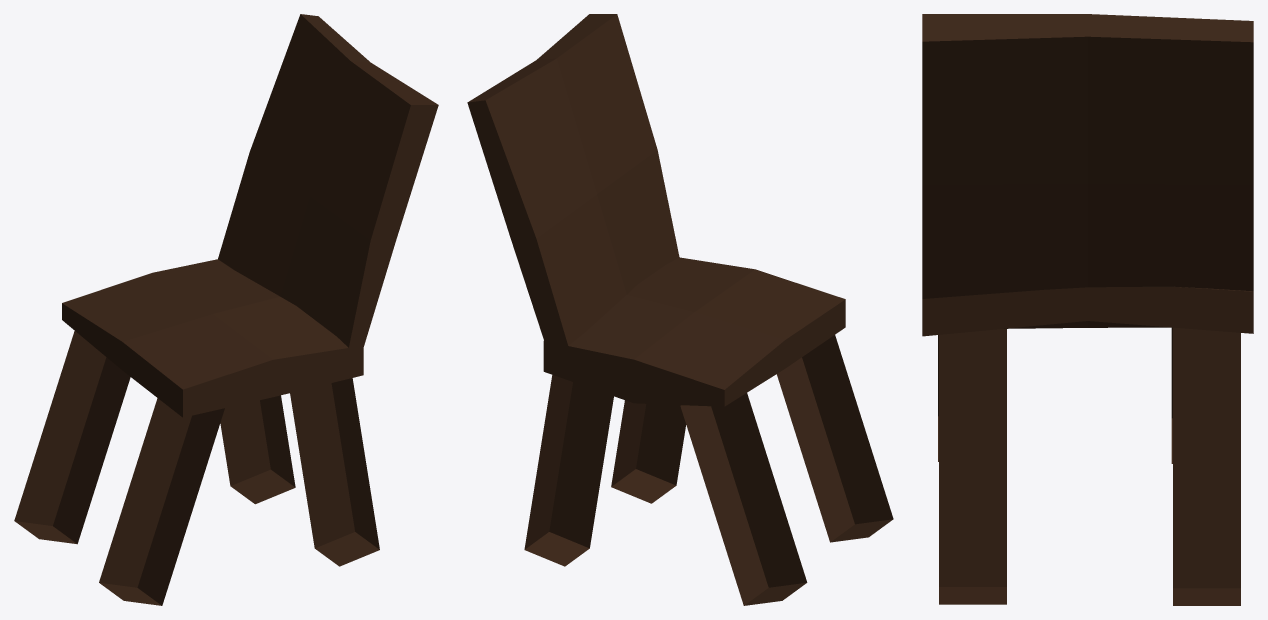
Rendered from Chair.fbx.
The picture shows the model from 3 angles, left to right: view 1: azimuth 30°, elevation 25°; view 2: azimuth 150°, elevation 25°; view 3: azimuth 270°, elevation 25°; orthographic projection. The views are drawn at different scales.
Parts seen in each view (by area): view 1: Chair; view 2: Chair; view 3: Chair.
Boxes of the visible parts, bbox=[...] form: Chair: bbox=[14, 14, 438, 605]; Chair: bbox=[467, 14, 893, 605]; Chair: bbox=[922, 14, 1253, 605].
Bounding box in the file's own units: 72.69 × 101 × 49.12.
